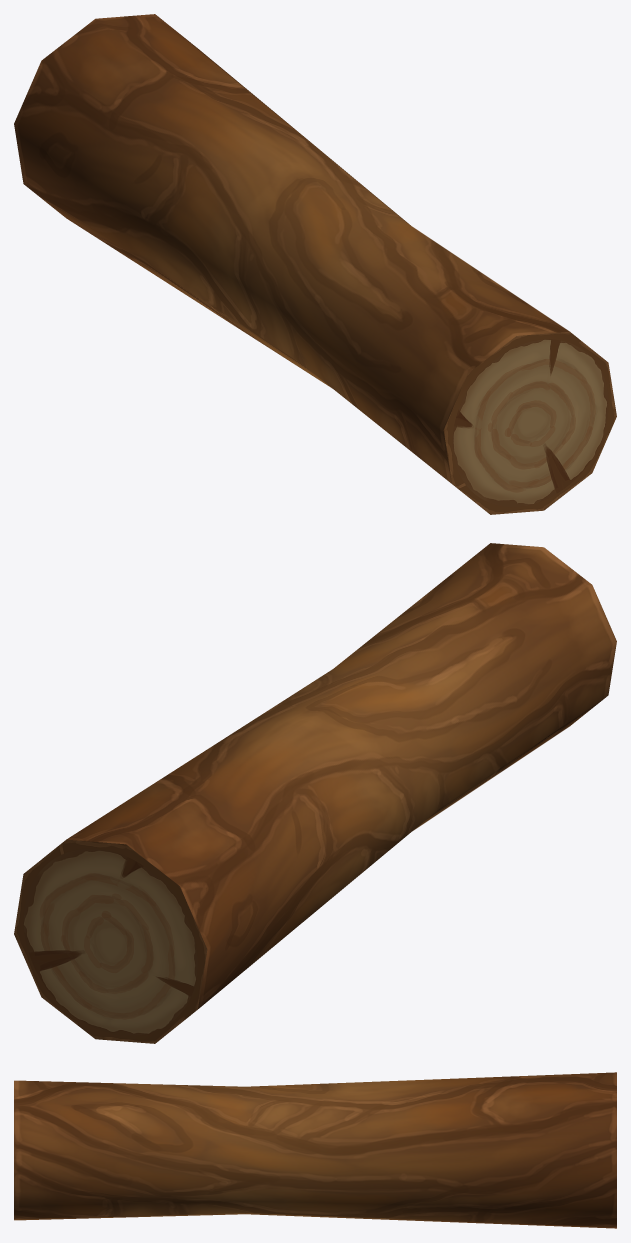
File: Log_1.FBX
3 views of the same model, one above another, from view 1: azimuth 30°, elevation 25°; view 2: azimuth 150°, elevation 25°; view 3: azimuth 270°, elevation 25° (orthographic). The views are drawn at different scales.
Visible parts, largest first — view 1: Log_1; view 2: Log_1; view 3: Log_1.
Part boxes in pixels (x1=…): Log_1: x1=14, y1=14, x2=616, y2=514; Log_1: x1=14, y1=543, x2=616, y2=1043; Log_1: x1=14, y1=1072, x2=616, y2=1228.
Bounding box in the file's own units: 0.9672 × 0.9672 × 3.63.
